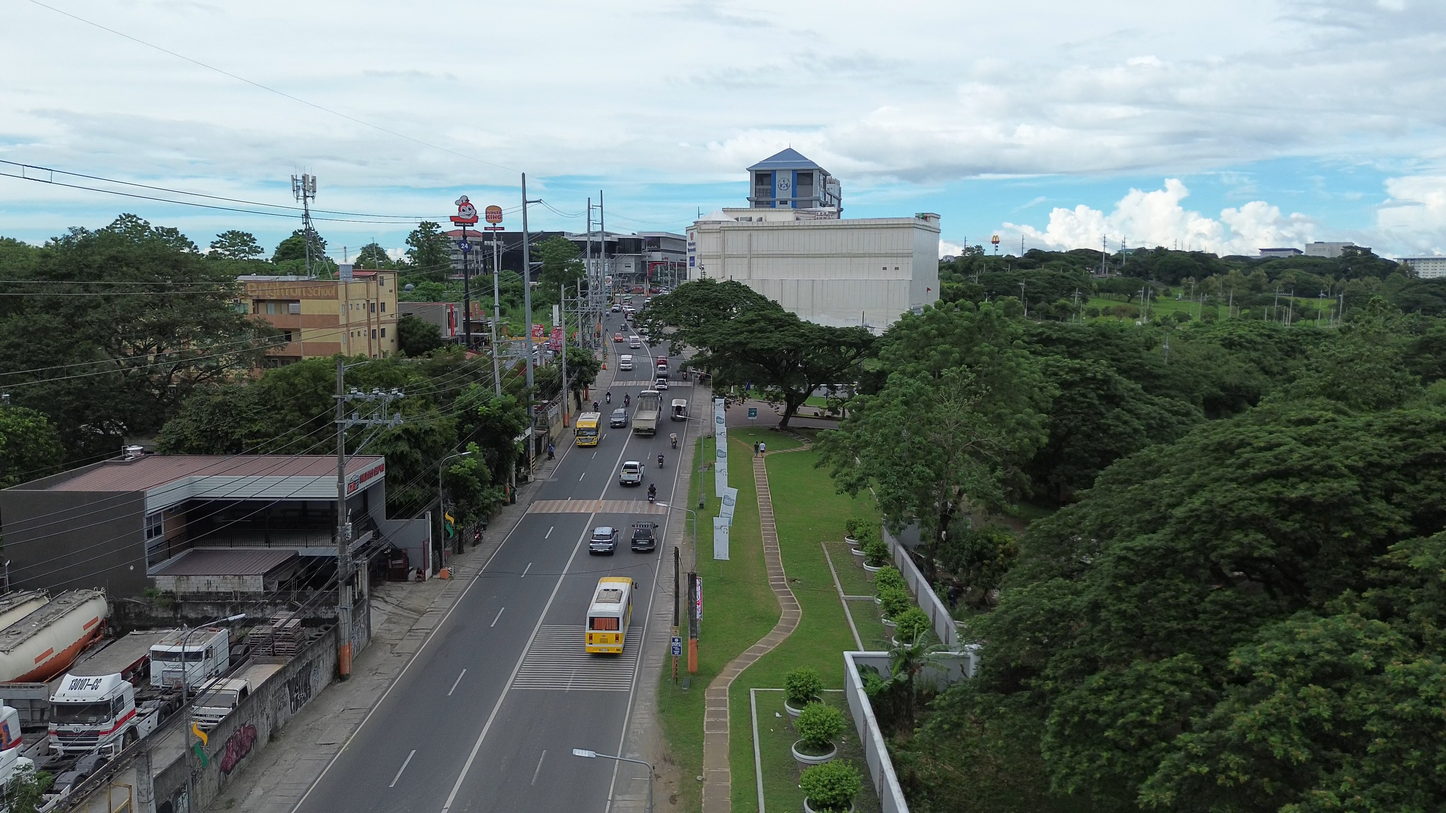bus: (585, 577, 634, 654), (575, 412, 600, 446)
car: (610, 304, 621, 313)
motorcycle: (670, 433, 677, 448), (657, 454, 664, 469)
truck: (49, 631, 176, 757), (191, 657, 287, 731)
vehicle: (0, 589, 108, 682), (151, 627, 229, 691), (191, 678, 252, 730), (50, 752, 110, 797), (633, 390, 660, 435), (589, 526, 619, 554), (630, 522, 657, 551), (619, 461, 643, 486), (671, 399, 687, 421), (610, 408, 628, 427), (619, 354, 633, 371), (628, 335, 642, 349), (654, 377, 668, 391), (613, 333, 623, 342)
